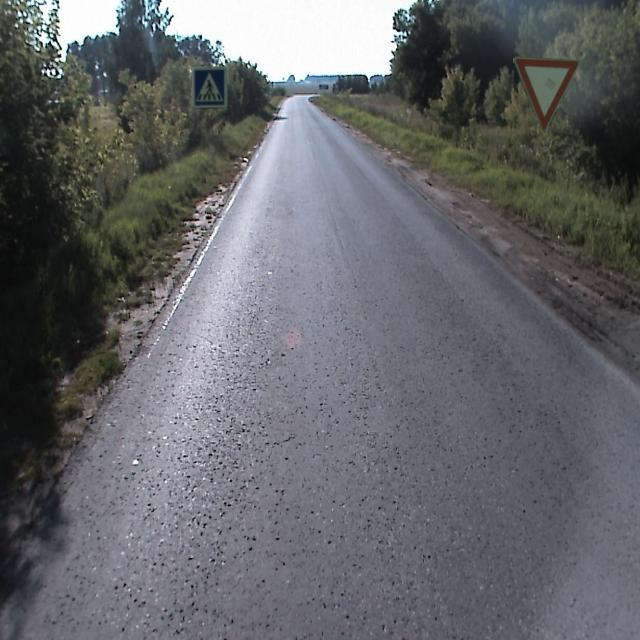road: (0, 96, 639, 639)
